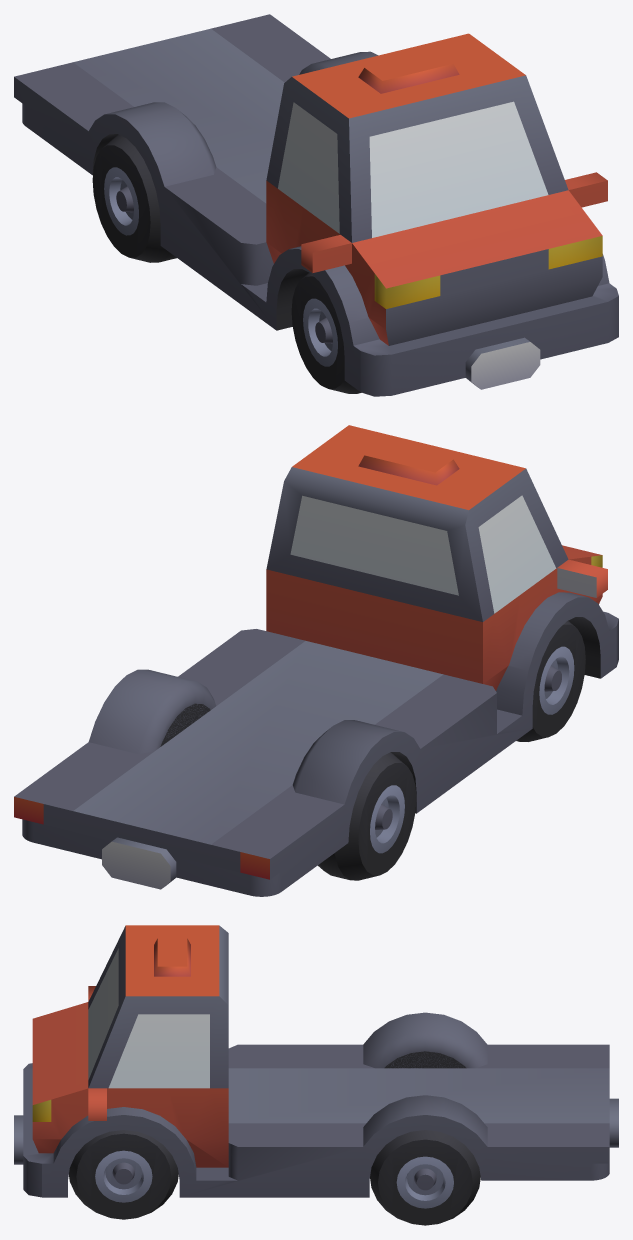
Rendered from delivery-flat.glb.
3 renders of one model, top to bottom at view 1: azimuth 30°, elevation 25°; view 2: azimuth 150°, elevation 25°; view 3: azimuth 270°, elevation 25°, orthographic. The views are drawn at different scales.
Visible parts, largest first — view 1: body, wheel-back-right, wheel-front-right; view 2: body, wheel-back-right, wheel-front-right; view 3: body, wheel-back-left, wheel-front-left.
Boxes of the visible parts, x1=… form: body: x1=14, y1=14, x2=618, y2=396; wheel-back-right: x1=92, y1=134, x2=176, y2=262; wheel-front-right: x1=291, y1=272, x2=361, y2=393; body: x1=14, y1=425, x2=618, y2=896; wheel-back-right: x1=318, y1=752, x2=416, y2=880; wheel-front-right: x1=516, y1=621, x2=585, y2=741; body: x1=14, y1=925, x2=618, y2=1197; wheel-back-left: x1=370, y1=1130, x2=480, y2=1225; wheel-front-left: x1=69, y1=1130, x2=178, y2=1219.
Bounding box in the file's own units: 1.5 × 1.35 × 3.25.
